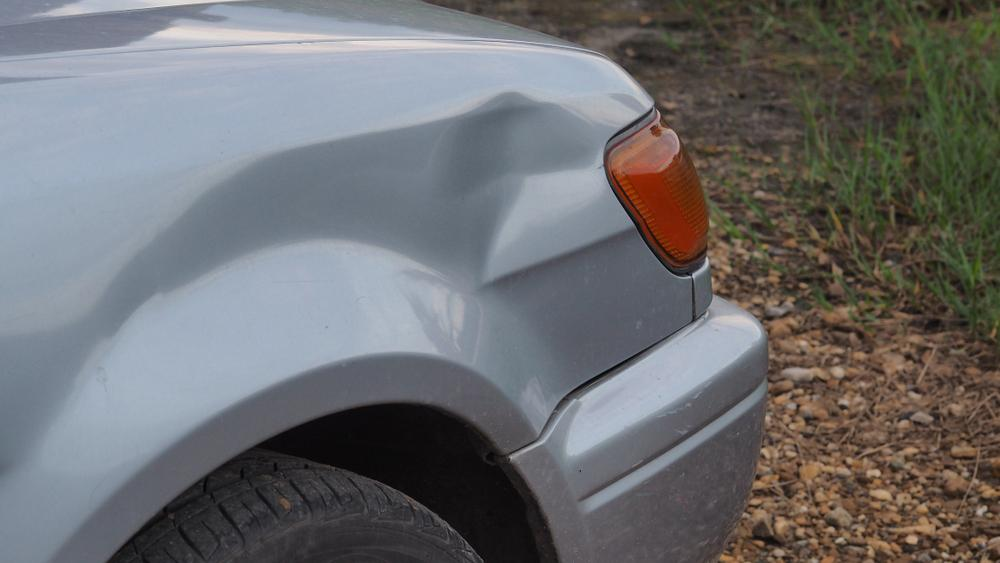dent: (432, 92, 612, 290)
